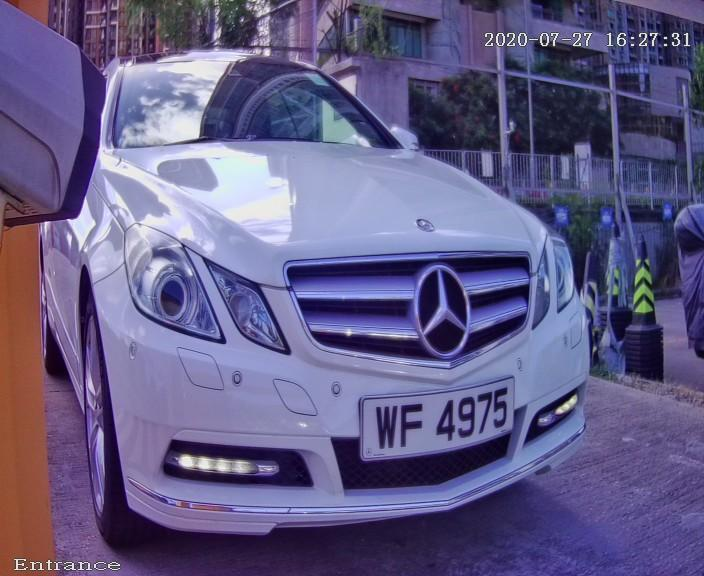privatecar: (38, 8, 632, 553)
